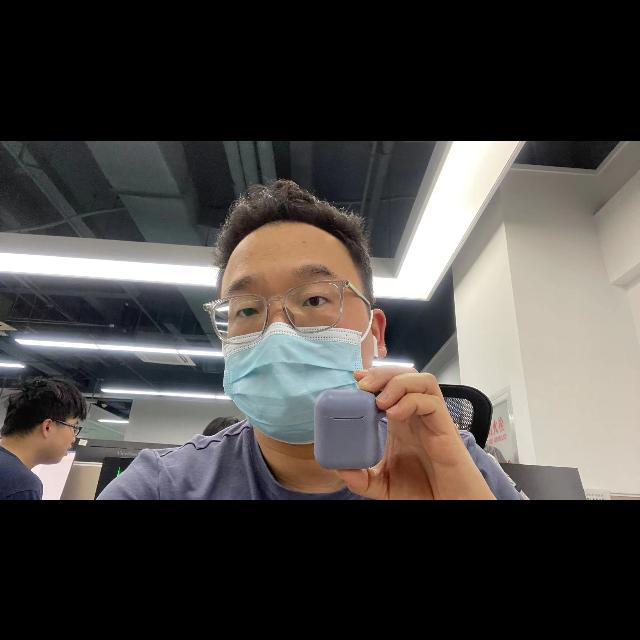airpods: (314, 390, 386, 470)
